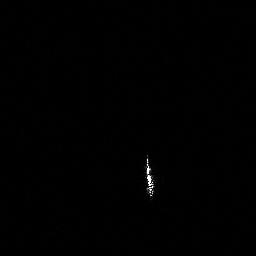ship: (143, 153, 158, 200)
